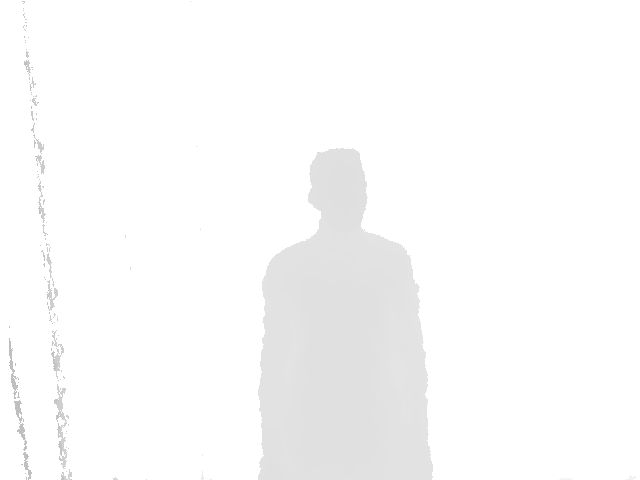head: (307, 148, 368, 232)
person: (256, 148, 435, 480)
